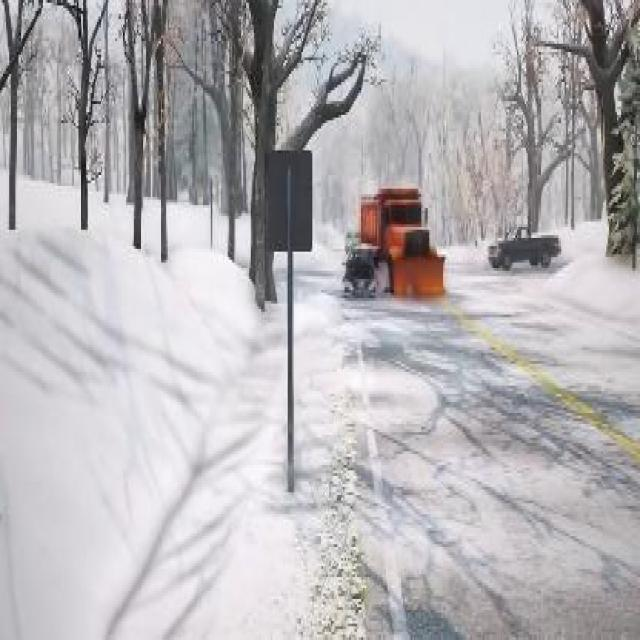accident: (340, 172, 445, 304)
